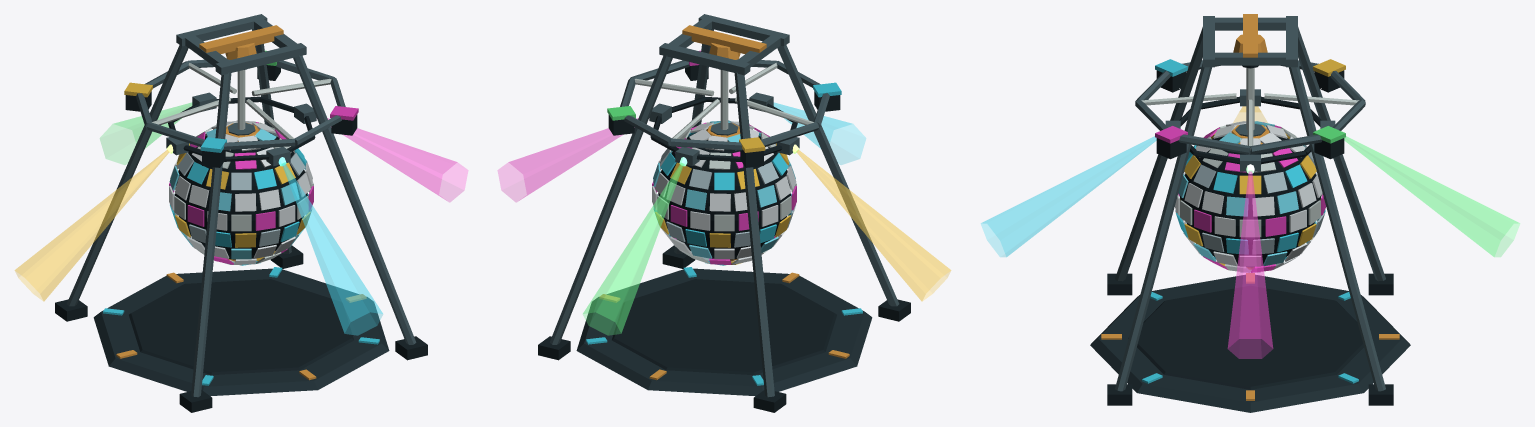
Rendered from disco_ball_d0_lod1.glb.
3 renders of one model, left to right at view 1: azimuth 30°, elevation 25°; view 2: azimuth 150°, elevation 25°; view 3: azimuth 270°, elevation 25°, orthographic. The views are drawn at different scales.
Parts seen in each view (by area): view 1: STANDALONE_CRADLE, LASER_BEAM_PREVIEW, DISCO_SPHERE_MESH, LIGHT_HALO_BODY, LASER_RING_BODY, HOIST_TETHER_ASSEMBLY; view 2: STANDALONE_CRADLE, LASER_BEAM_PREVIEW, DISCO_SPHERE_MESH, LIGHT_HALO_BODY, LASER_RING_BODY, HOIST_TETHER_ASSEMBLY; view 3: STANDALONE_CRADLE, DISCO_SPHERE_MESH, LASER_BEAM_PREVIEW, LIGHT_HALO_BODY, LASER_RING_BODY, HOIST_TETHER_ASSEMBLY.
Boxes of the visible parts, x1=… form: STANDALONE_CRADLE: x1=55, y1=14, x2=427, y2=412; LASER_BEAM_PREVIEW: x1=14, y1=102, x2=468, y2=335; DISCO_SPHERE_MESH: x1=169, y1=120, x2=313, y2=265; LIGHT_HALO_BODY: x1=124, y1=50, x2=358, y2=167; LASER_RING_BODY: x1=166, y1=92, x2=316, y2=166; HOIST_TETHER_ASSEMBLY: x1=225, y1=43, x2=256, y2=135; STANDALONE_CRADLE: x1=538, y1=14, x2=910, y2=412; LASER_BEAM_PREVIEW: x1=497, y1=102, x2=951, y2=335; DISCO_SPHERE_MESH: x1=652, y1=120, x2=796, y2=265; LIGHT_HALO_BODY: x1=607, y1=50, x2=841, y2=167; LASER_RING_BODY: x1=649, y1=92, x2=799, y2=166; HOIST_TETHER_ASSEMBLY: x1=709, y1=43, x2=740, y2=135; STANDALONE_CRADLE: x1=1090, y1=14, x2=1410, y2=412; DISCO_SPHERE_MESH: x1=1174, y1=121, x2=1326, y2=272; LASER_BEAM_PREVIEW: x1=981, y1=106, x2=1519, y2=358; LIGHT_HALO_BODY: x1=1135, y1=59, x2=1365, y2=159; LASER_RING_BODY: x1=1165, y1=89, x2=1335, y2=171; HOIST_TETHER_ASSEMBLY: x1=1233, y1=34, x2=1267, y2=136.
Bounding box in the file's own units: 9.86 × 6.31 × 9.92.
